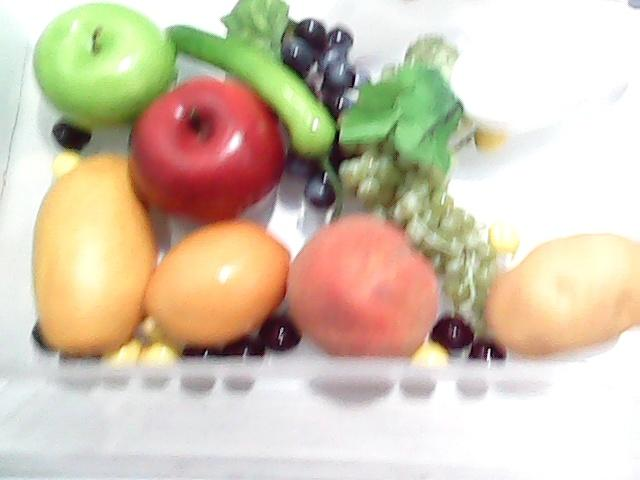apple: (122, 76, 298, 212), (16, 0, 191, 136)
grape: (357, 118, 507, 300), (288, 17, 356, 207)
lemon: (136, 210, 298, 358)
mango: (24, 145, 152, 367)
peach: (286, 215, 442, 368)
pepper: (164, 8, 338, 160)
potato: (484, 234, 640, 366)
radish: (339, 18, 640, 178)
